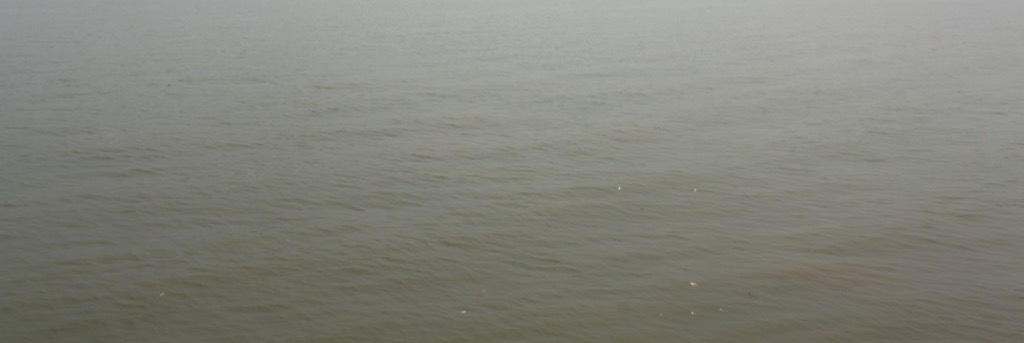organic: (637, 202, 648, 214)
plastic: (463, 275, 495, 310), (148, 280, 178, 310)
